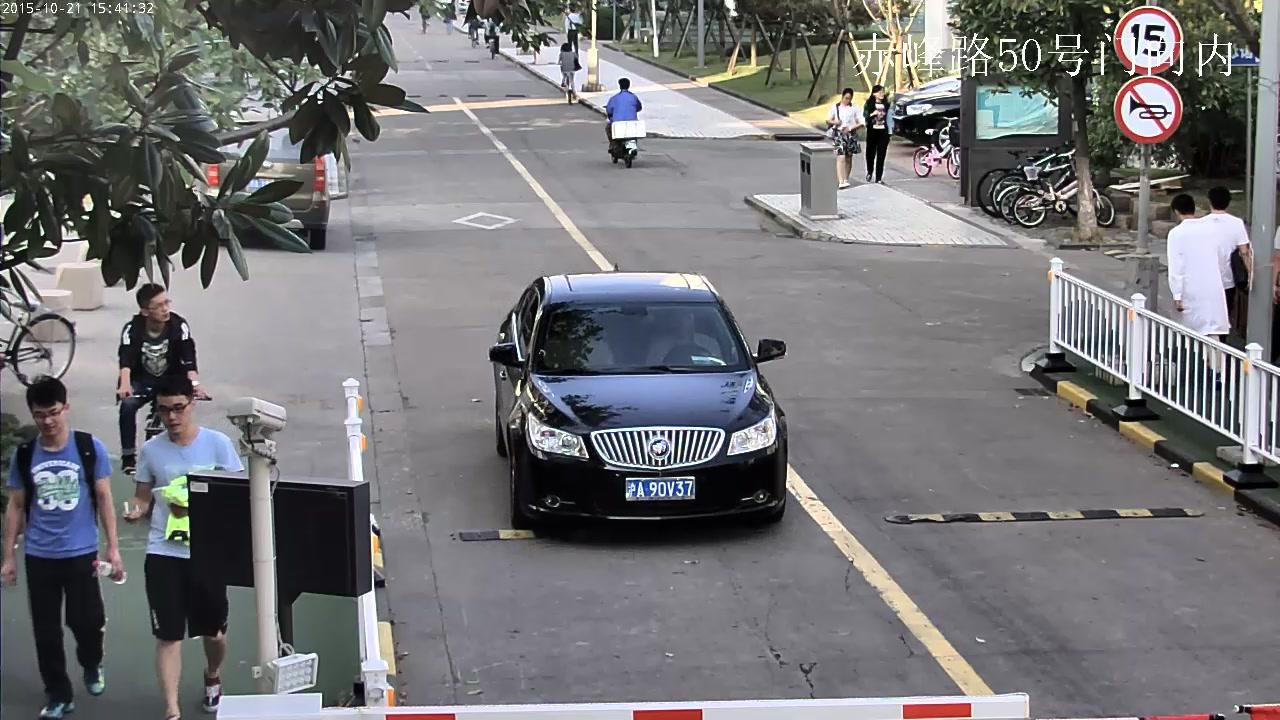face: (157, 396, 189, 433), (32, 404, 63, 436), (150, 292, 170, 320), (670, 313, 692, 336), (876, 88, 883, 98), (843, 93, 850, 103)
